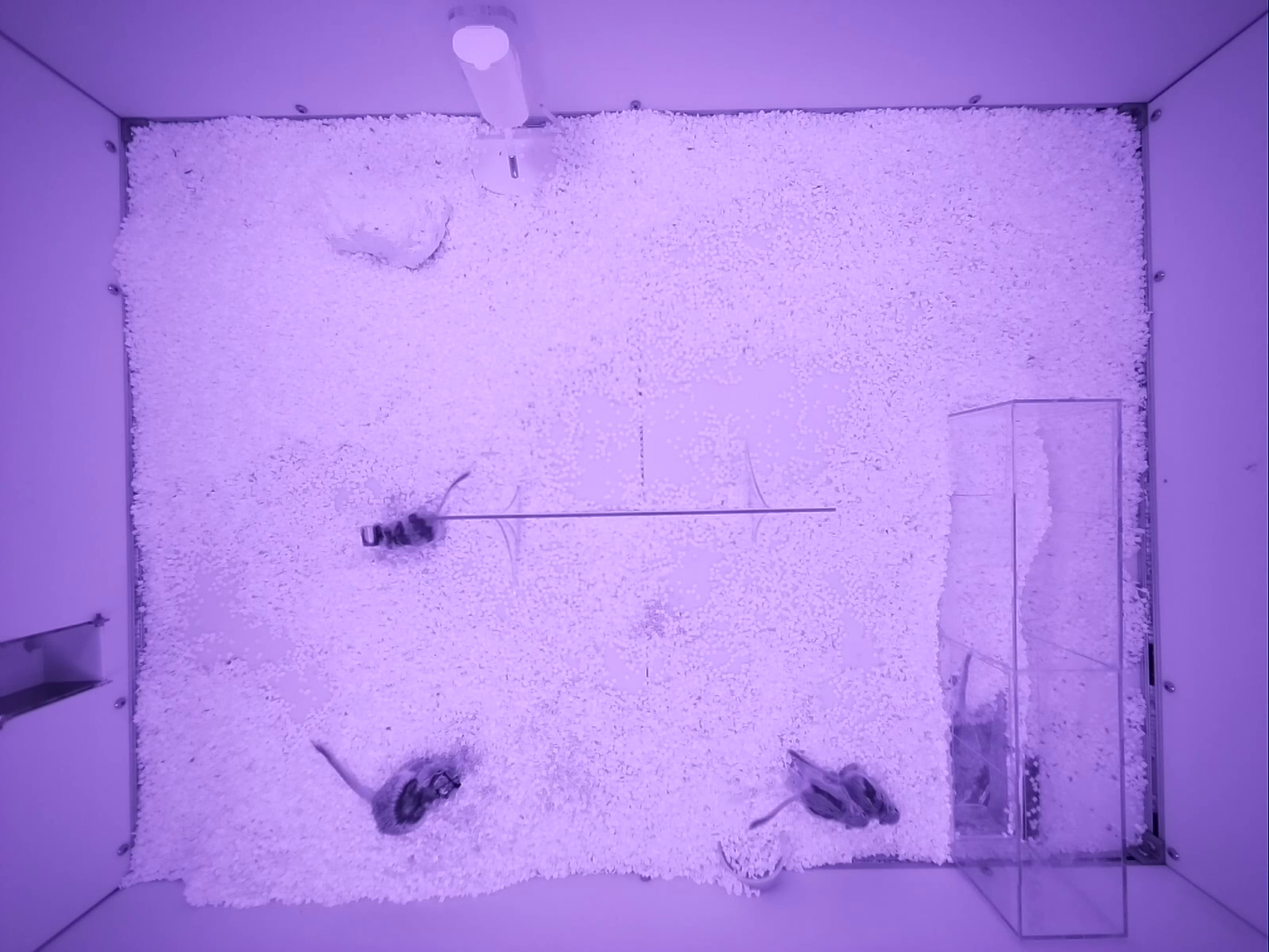adult_back: (313, 741, 459, 835), (750, 750, 898, 827), (362, 470, 469, 547)
